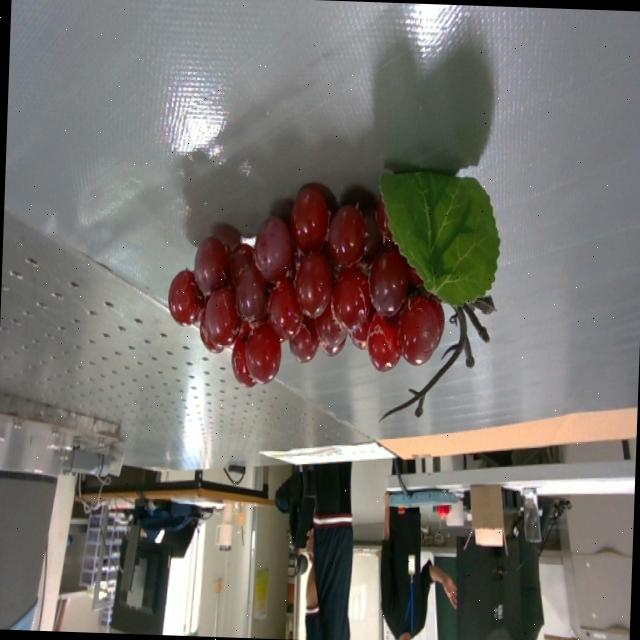grape: (168, 172, 499, 415)
